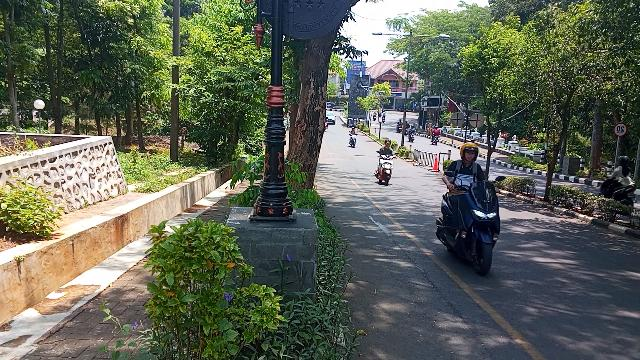helm: (461, 144, 479, 163), (620, 157, 630, 165)
motor: (437, 183, 503, 277), (600, 181, 638, 210), (375, 156, 397, 186)
non-helm: (386, 141, 393, 148)
